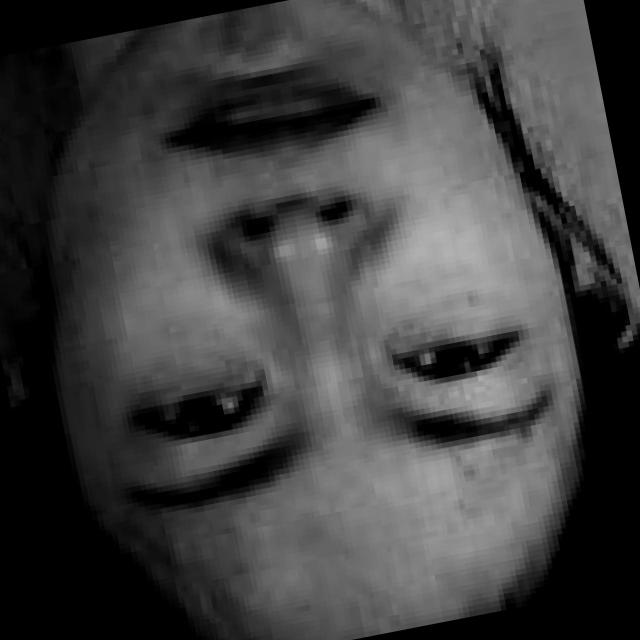disgust: (23, 0, 616, 631)
